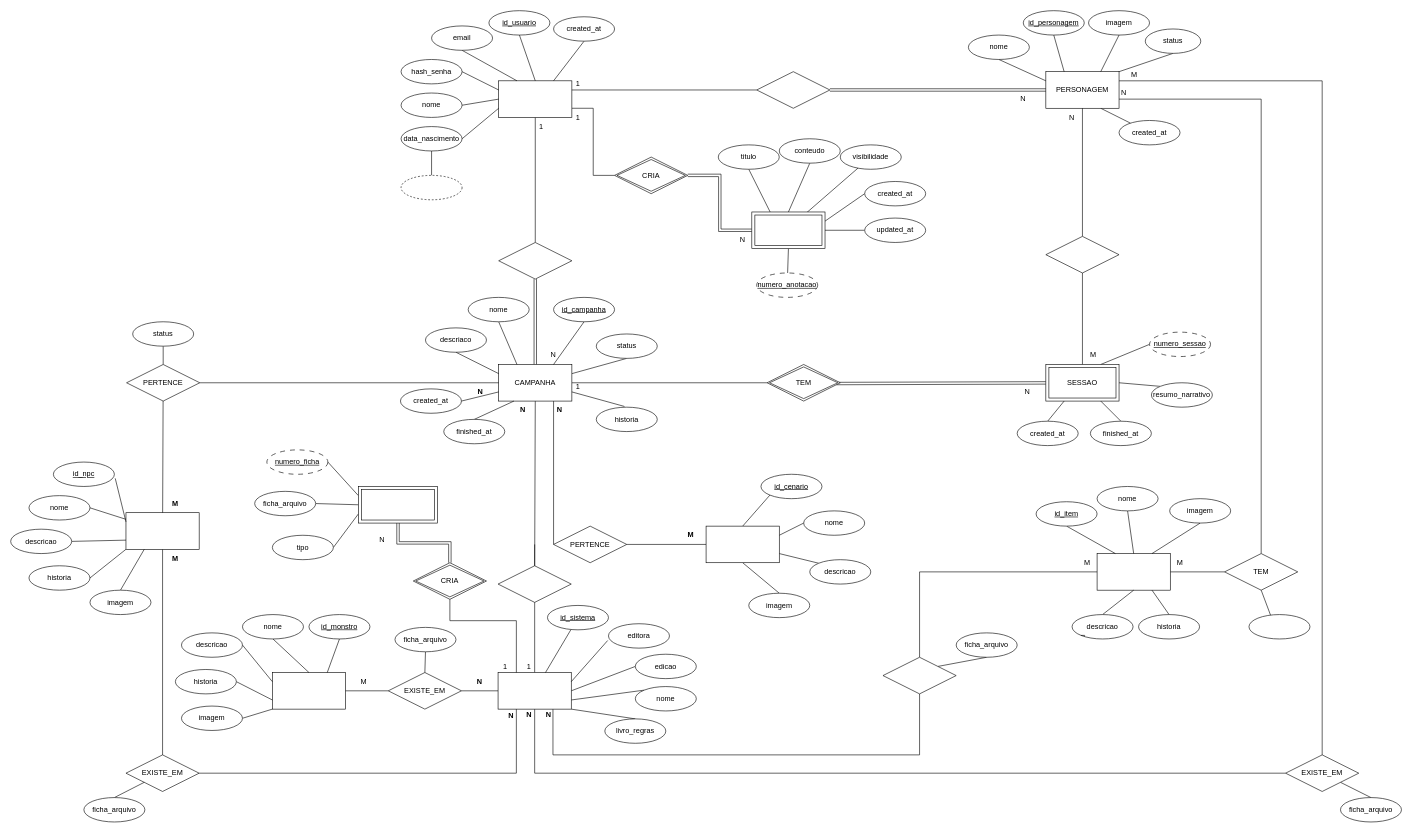
Image size: 1412x833. Some labels were removed from this diagram. Here are the shapes that lost their labels. From the top down, the centre of each, then its label:
At pixel 535 98: "USUARIO".
At pixel 793 89: "JOGA".
At pixel 431 187: "idade".
At pixel 788 230: "ANOTACAO".
At pixel 535 260: "MESTRA".
At pixel 1082 254: "PARTICIPA".
At pixel 398 504: "FICHAS_TEMPLATE".
At pixel 162 530: "NPC".
At pixel 742 544: "CENARIO".
At pixel 534 583: "REGE".
At pixel 1133 571: "ITEM".
At pixel 1279 626: "quantidade".
At pixel 309 690: "MONSTRO".
At pixel 534 690: "SISTEMA".
At pixel 919 675: "EXISTEM_EM".
